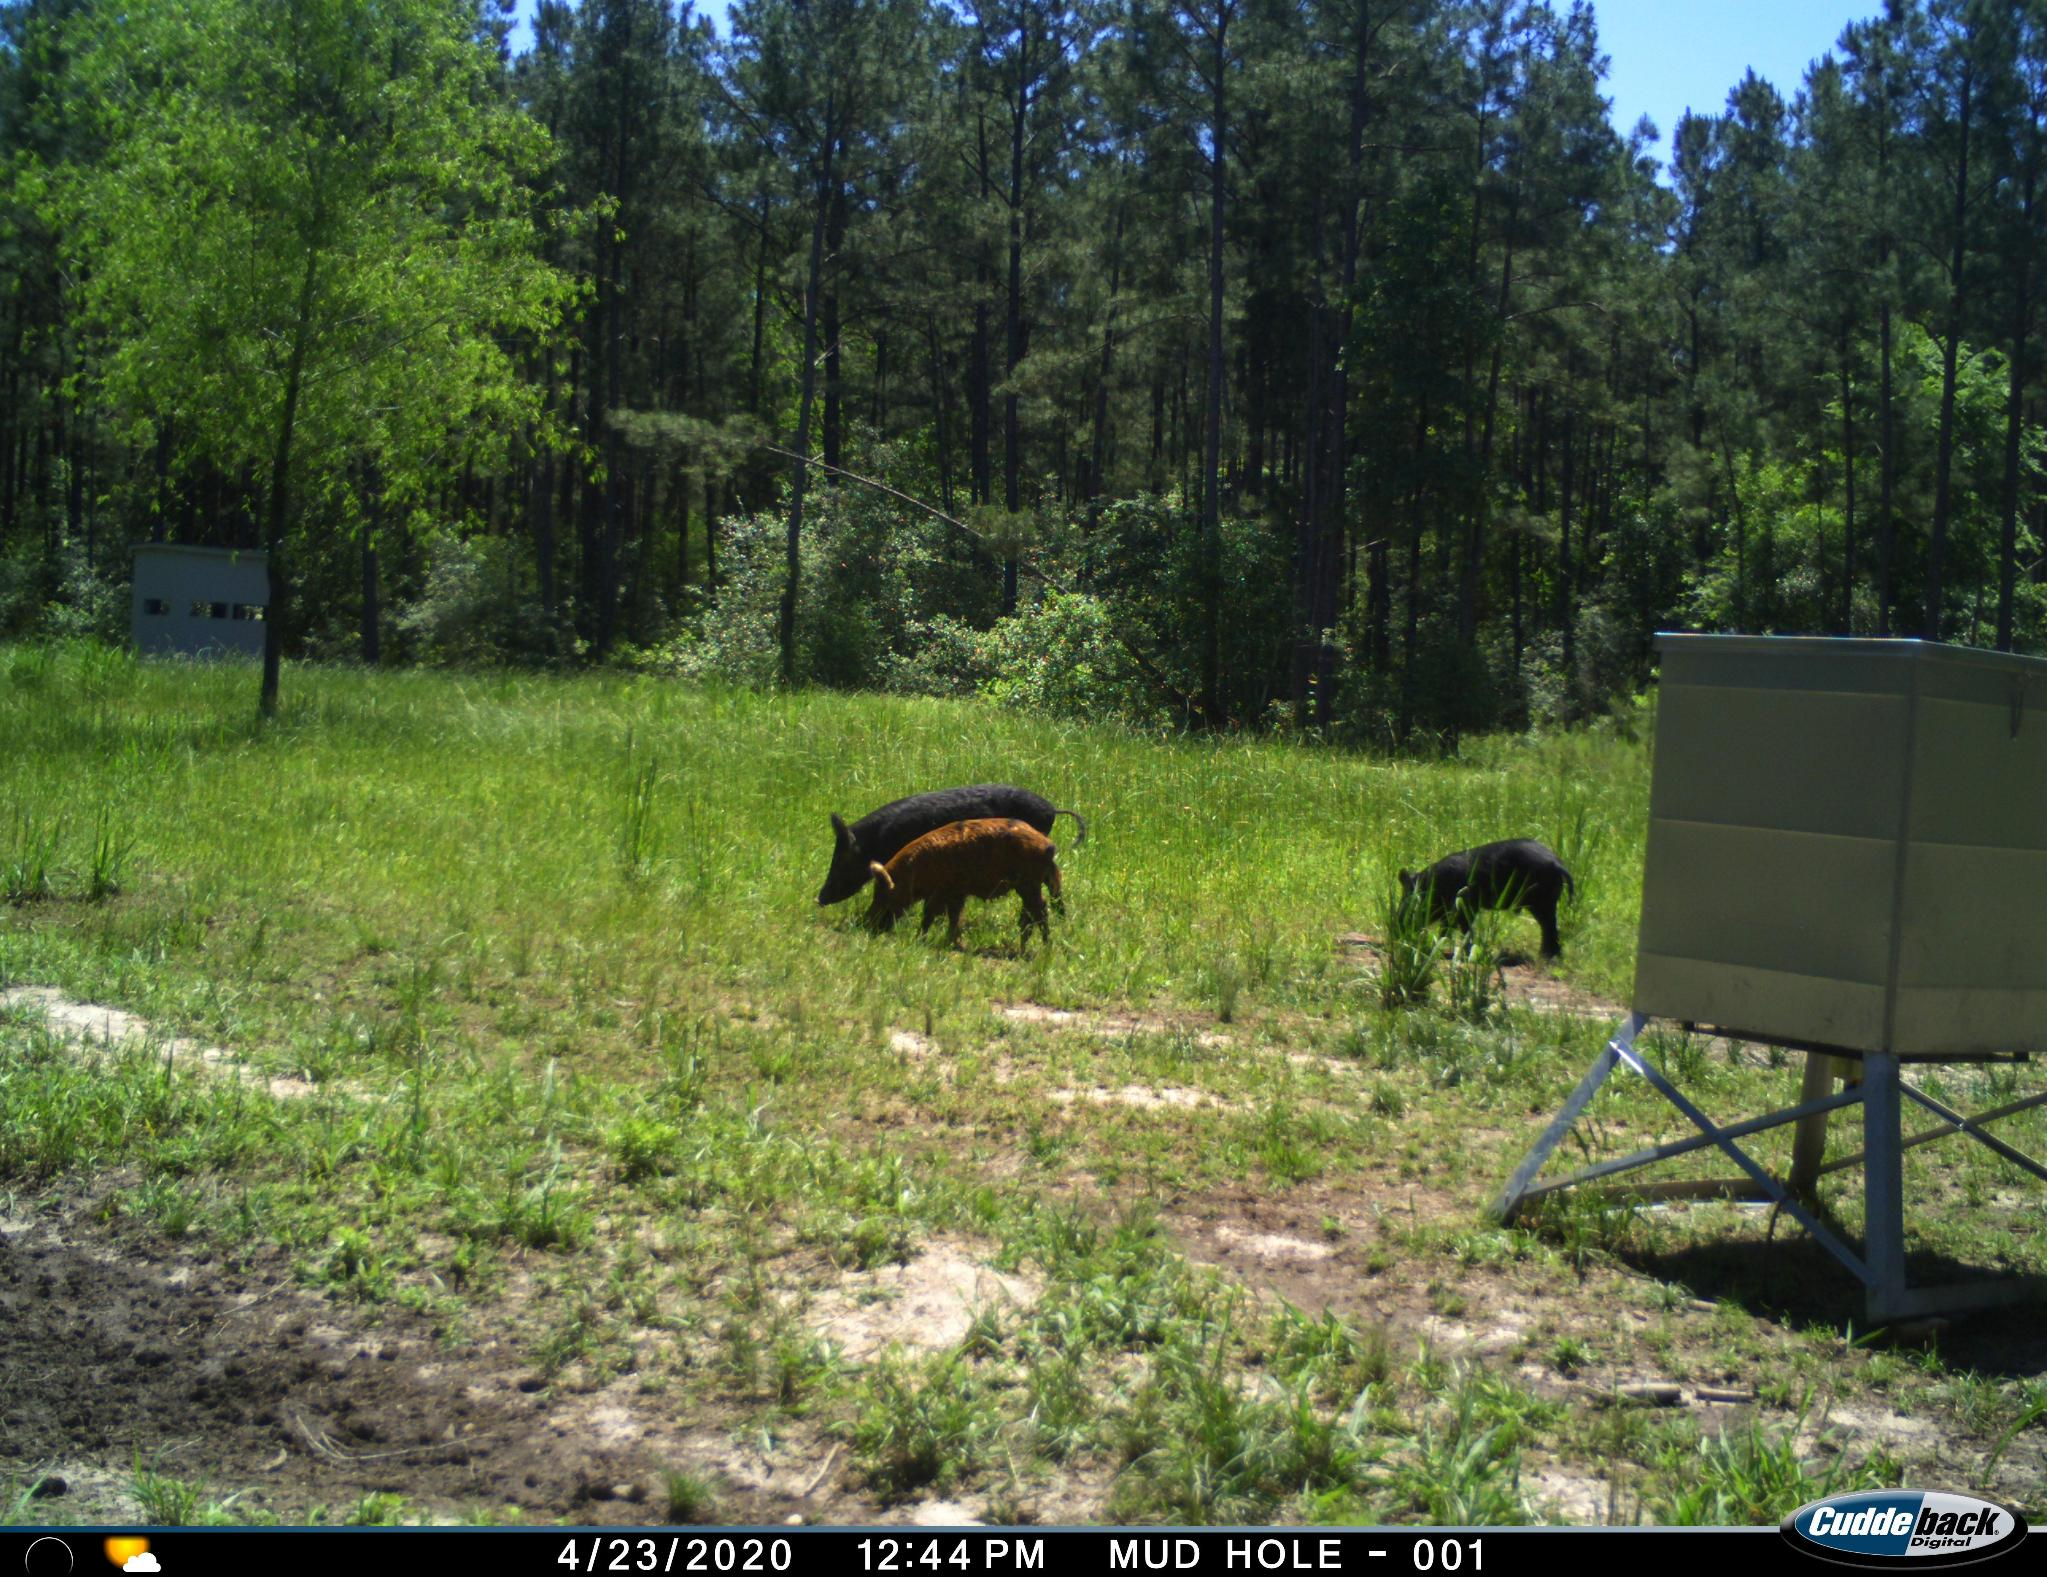Hog: (815, 777, 1106, 916), (1396, 828, 1577, 994), (860, 823, 1073, 956)
